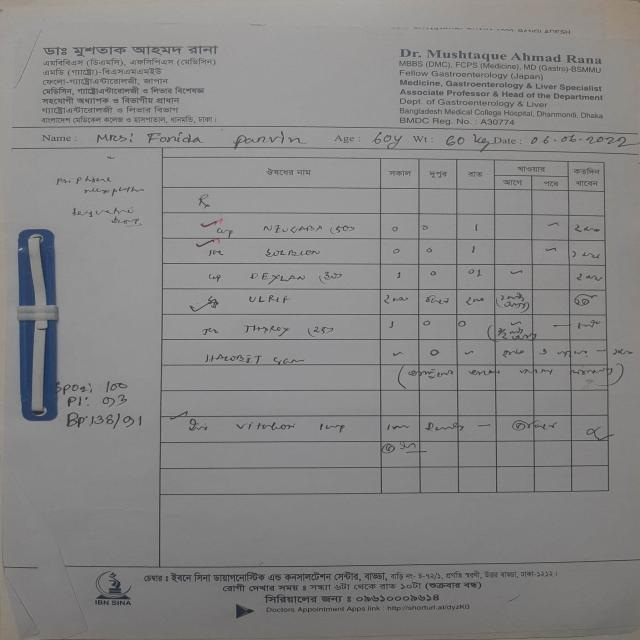Dexlan: (250, 271, 310, 285)
Halobet: (196, 347, 266, 365)
Neugaba: (261, 222, 329, 236)
Sulbion: (259, 245, 323, 261)
Thyrox: (239, 320, 297, 338)
Ulrif: (245, 292, 296, 308)
Vitabion: (230, 420, 298, 435)
